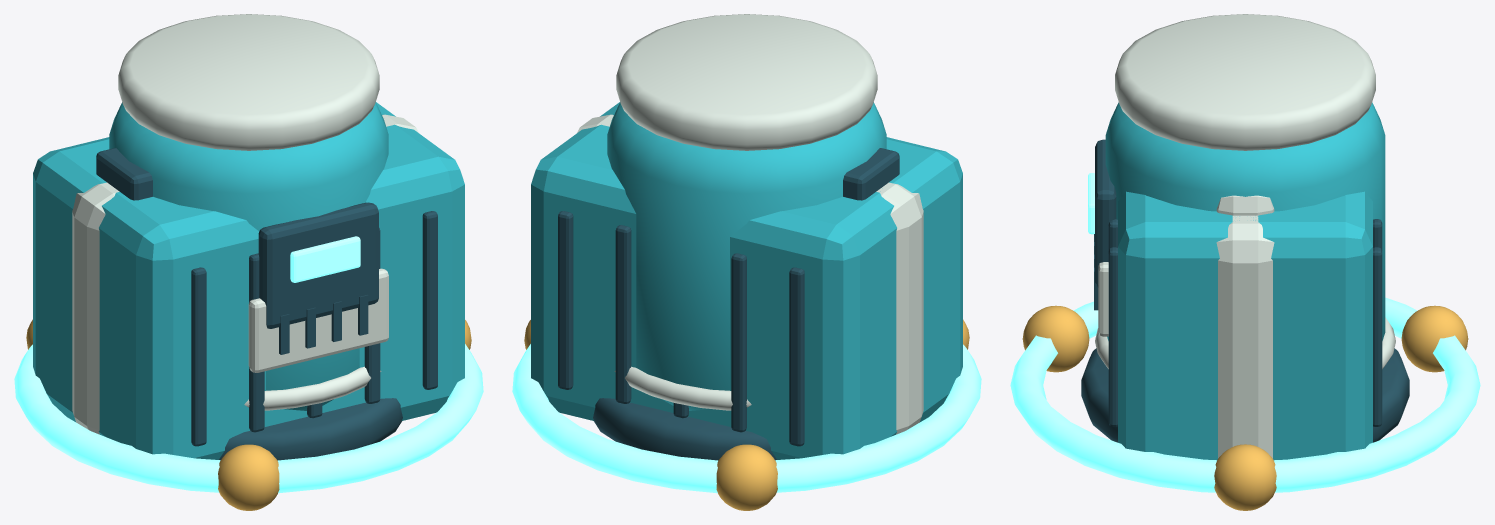
Rendered from deployment-effects.glb.
3 views of the same model, side by side, from view 1: azimuth 30°, elevation 25°; view 2: azimuth 150°, elevation 25°; view 3: azimuth 270°, elevation 25° (orthographic).
Visible parts, largest first — view 1: ImagePackage, PodShell, SyncRing, CodePacket, ConfigPacket; view 2: ImagePackage, PodShell, SyncRing, CodePacket, ConfigPacket; view 3: ImagePackage, PodShell, SyncRing, CodePacket, ConfigPacket.
Part boxes in pixels (x1,y1,x2,y2): ImagePackage: (33, 102, 464, 459); PodShell: (109, 14, 402, 460); SyncRing: (14, 319, 483, 510); CodePacket: (72, 114, 418, 434); ConfigPacket: (96, 148, 152, 200); ImagePackage: (531, 102, 962, 459); PodShell: (593, 14, 886, 460); SyncRing: (512, 319, 981, 510); CodePacket: (577, 114, 923, 434); ConfigPacket: (843, 148, 899, 200); ImagePackage: (1094, 191, 1382, 460); PodShell: (1081, 14, 1409, 442); SyncRing: (1010, 297, 1480, 510); CodePacket: (1216, 215, 1274, 458); ConfigPacket: (1216, 195, 1274, 215).
Bounding box in the file's own units: 0.802 × 0.6375 × 0.774.
